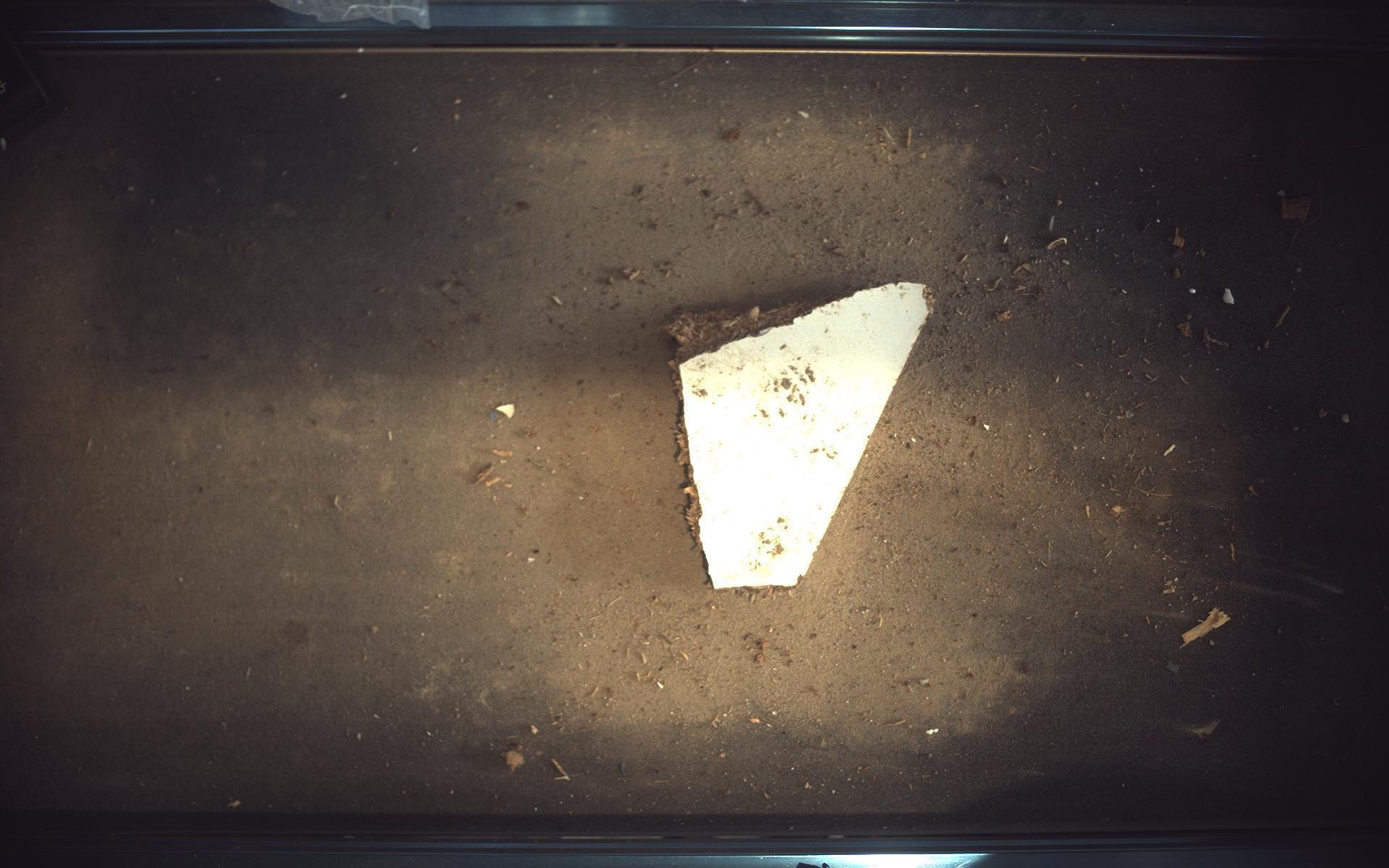wood: (666, 282, 933, 589)
